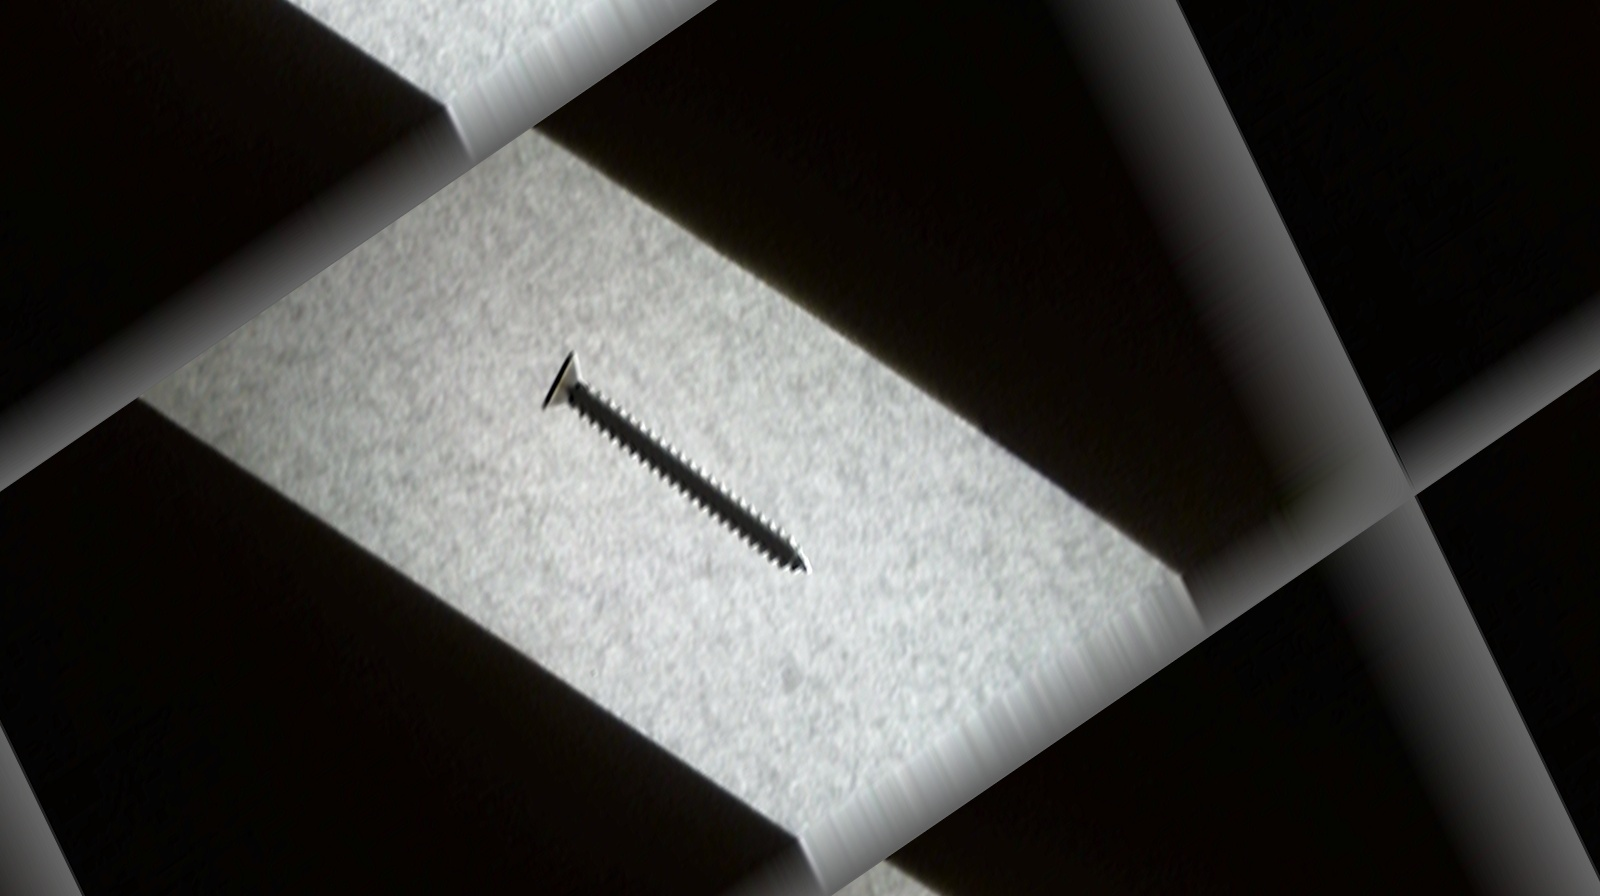S002: (522, 273, 826, 682)
